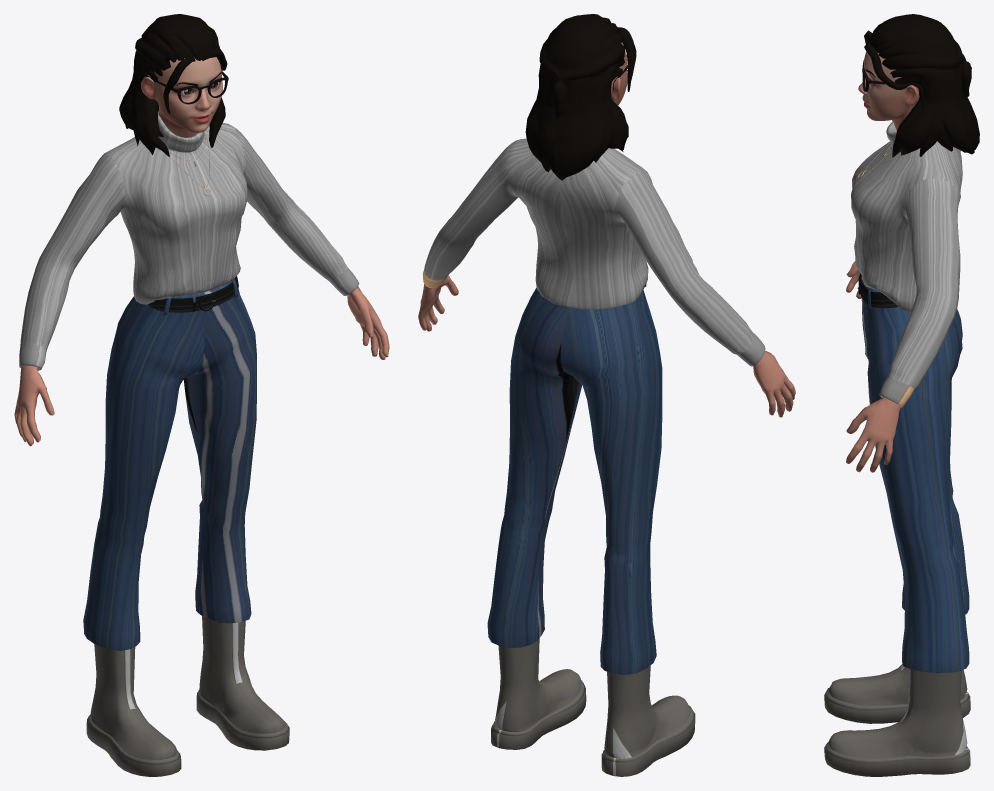
The picture shows the model from 3 angles, left to right: view 1: azimuth 30°, elevation 25°; view 2: azimuth 150°, elevation 25°; view 3: azimuth 270°, elevation 25°; orthographic projection.
Parts seen in each view (by area): view 1: Wolf3D_Outfit_Bottom, Wolf3D_Outfit_Top, Wolf3D_Outfit_Footwear, Wolf3D_Hair, Wolf3D_Head, Wolf3D_Body; view 2: Wolf3D_Outfit_Bottom, Wolf3D_Outfit_Top, Wolf3D_Outfit_Footwear, Wolf3D_Hair, Wolf3D_Body; view 3: Wolf3D_Outfit_Bottom, Wolf3D_Outfit_Top, Wolf3D_Outfit_Footwear, Wolf3D_Hair, Wolf3D_Body, Wolf3D_Head.
Boxes of the visible parts, left/top/right/bottom form: Wolf3D_Outfit_Bottom: left=83, top=276, right=256, bottom=650; Wolf3D_Outfit_Top: left=19, top=111, right=359, bottom=370; Wolf3D_Outfit_Footwear: left=86, top=616, right=289, bottom=776; Wolf3D_Hair: left=119, top=14, right=227, bottom=156; Wolf3D_Head: left=141, top=57, right=222, bottom=137; Wolf3D_Body: left=14, top=286, right=389, bottom=446; Wolf3D_Outfit_Bottom: left=487, top=284, right=662, bottom=674; Wolf3D_Outfit_Top: left=423, top=138, right=765, bottom=366; Wolf3D_Outfit_Footwear: left=491, top=638, right=695, bottom=776; Wolf3D_Hair: left=525, top=14, right=636, bottom=180; Wolf3D_Body: left=418, top=275, right=795, bottom=417; Wolf3D_Outfit_Bottom: left=857, top=273, right=969, bottom=672; Wolf3D_Outfit_Top: left=851, top=121, right=962, bottom=407; Wolf3D_Outfit_Footwear: left=824, top=664, right=970, bottom=776; Wolf3D_Hair: left=864, top=14, right=979, bottom=157; Wolf3D_Body: left=846, top=261, right=900, bottom=472; Wolf3D_Head: left=858, top=51, right=919, bottom=130.
Size of the model in its own units: 0.9279 by 1.75 by 0.3424.
Materials: 9 (9 with a texture image).
